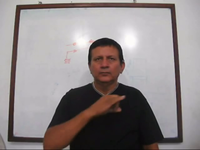oi: (93, 91, 127, 117)
